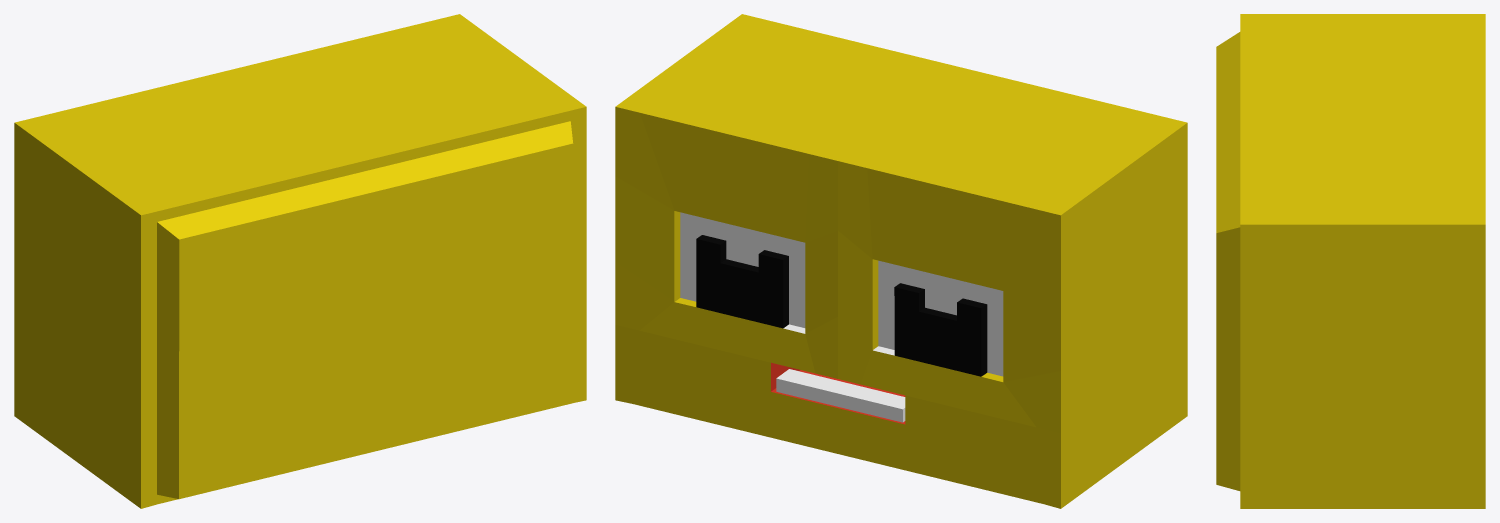
The model's file is Cabeça.fbx.
The picture shows the model from 3 angles, left to right: view 1: azimuth 30°, elevation 25°; view 2: azimuth 150°, elevation 25°; view 3: azimuth 270°, elevation 25°; orthographic projection. The views are drawn at different scales.
Parts seen in each view (by area): view 1: Cabeça; view 2: Cabeça; view 3: Cabeça.
Part boxes in pixels (x1,y1,x2,y2): Cabeça: [14, 14, 586, 508]; Cabeça: [615, 14, 1187, 508]; Cabeça: [1216, 14, 1485, 508].
Size of the model in its own units: 200 by 126 by 108.
